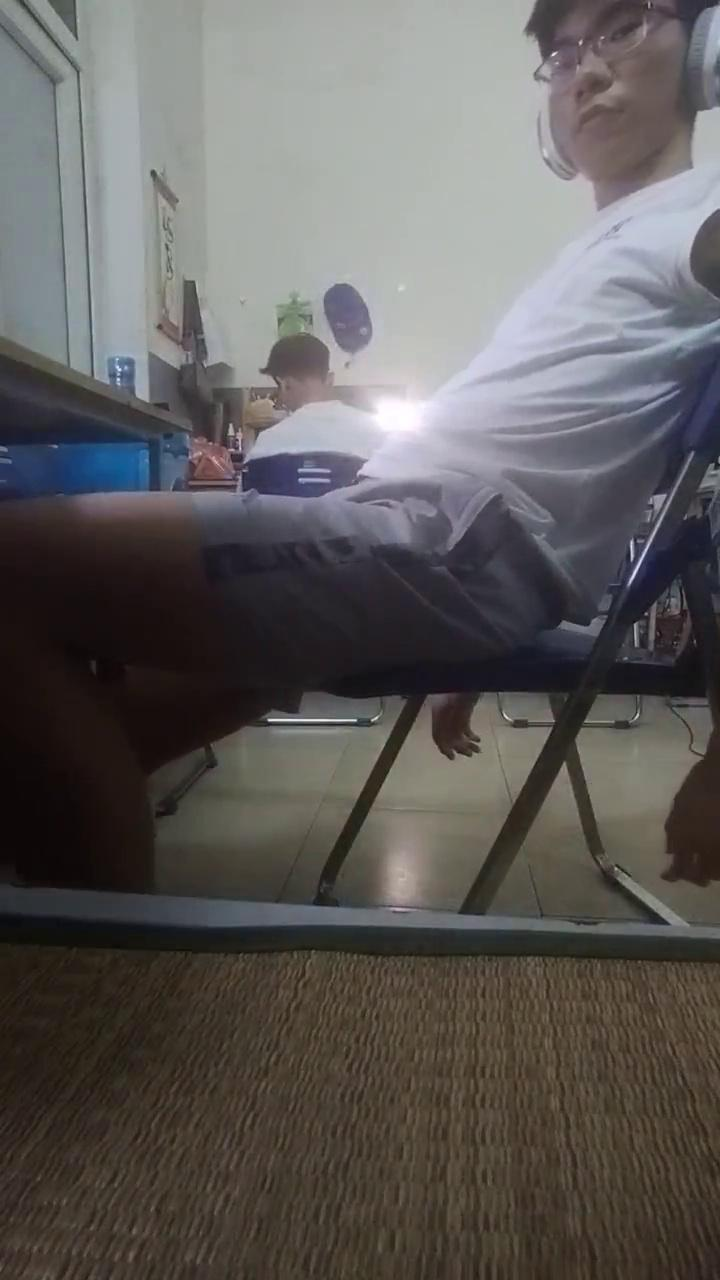BadPosture: (0, 0, 719, 892)
